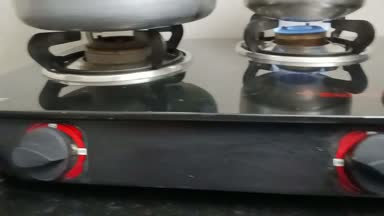flame_gas_off: (17, 24, 179, 180)
flame_gas_on: (248, 12, 369, 72)
